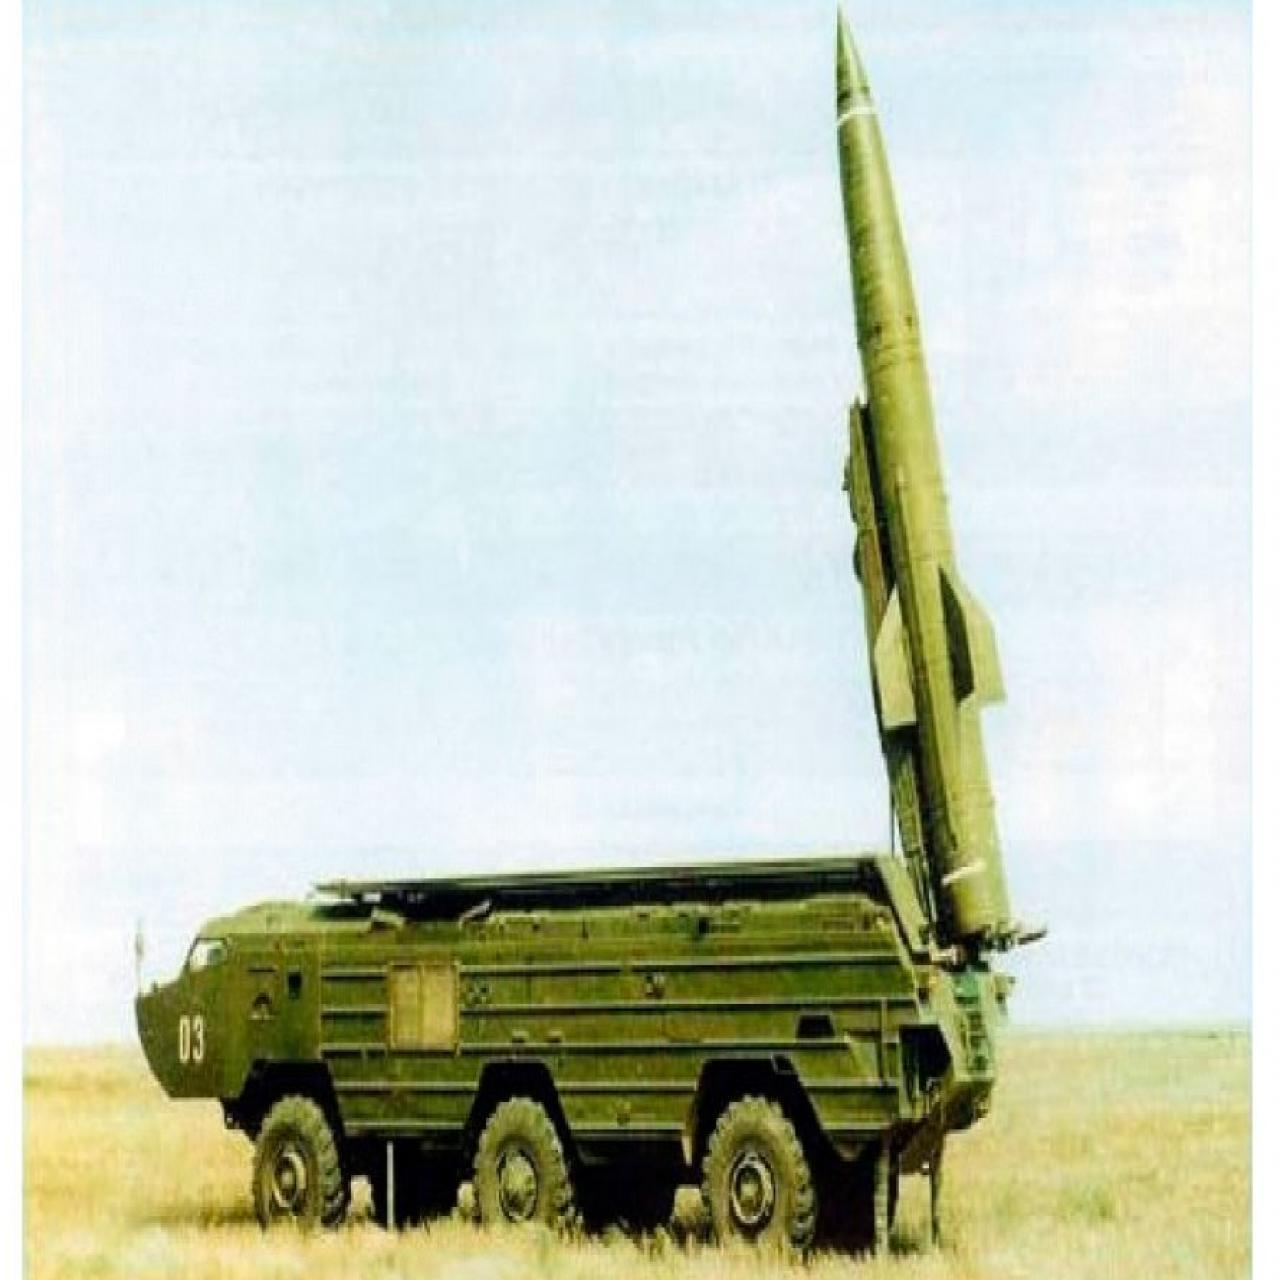MIL_Veh: (134, 7, 1010, 1280)
